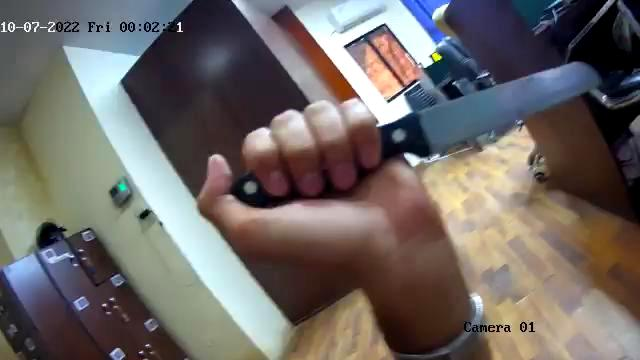pocket-knife: (196, 57, 604, 238)
